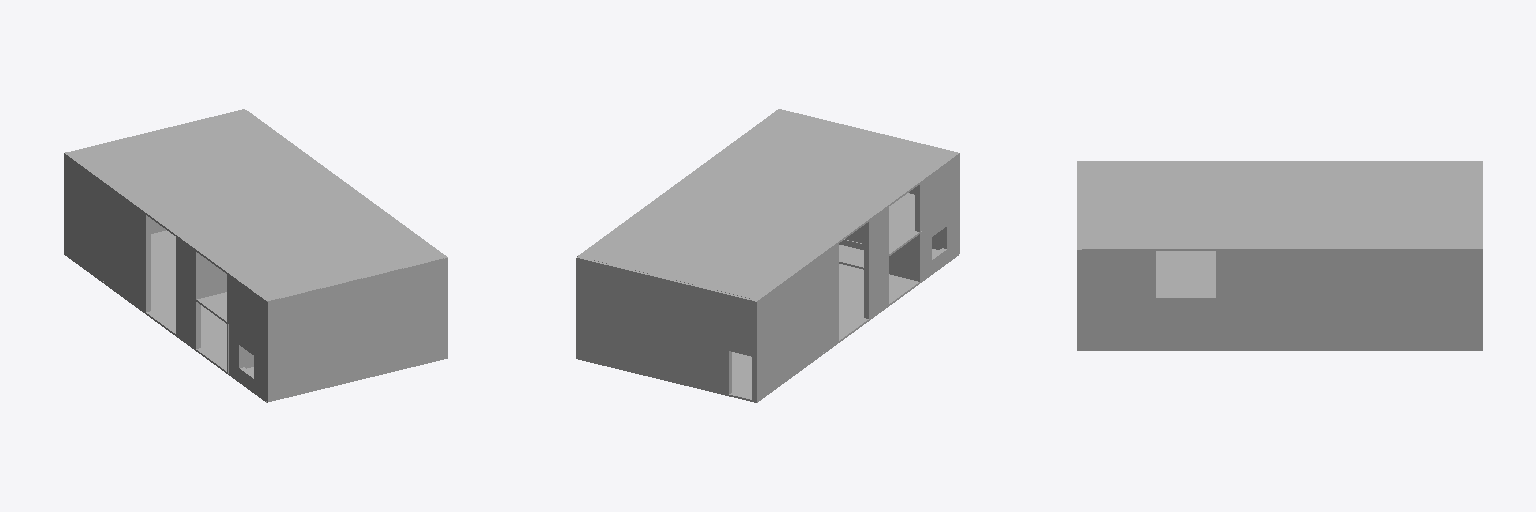
Rendered from aptofinal.obj.
3 renders of one model, left to right at view 1: azimuth 30°, elevation 25°; view 2: azimuth 150°, elevation 25°; view 3: azimuth 270°, elevation 25°, orthographic.
Parts seen in each view (by area): view 1: Apartamento TechoYsuelo pCube103, Apartamento LoftParedes pCube8, Apartamento LoftParedes pCube56, Apartamento LoftParedes pCube104, Apartamento LoftParedes pCube61, Apartamento pCube50 TechoYsuelo, Apartamento LoftParedes pCube57, Apartamento LoftParedes pCube6, Apartamento LoftParedes pCube95, Apartamento LoftParedes pCube58, Apartamento LoftParedes pCube7, Apartamento LoftParedes pCube97; view 2: Apartamento TechoYsuelo pCube103, Apartamento LoftParedes pCube60, Apartamento pCube2 LoftParedes, Apartamento LoftParedes pCube104, Apartamento LoftParedes pCube61, Apartamento pCube50 TechoYsuelo, Apartamento LoftParedes pCube57, Apartamento TechoYsuelo pCube55, Apartamento LoftParedes pCube105, Apartamento LoftParedes pCube6, Apartamento LoftParedes pCube58, Apartamento LoftParedes pCube51 (+1 smaller); view 3: Apartamento TechoYsuelo pCube103, Apartamento LoftParedes pCube30, Apartamento LoftParedes pCube59, Apartamento LoftParedes pCube96, Apartamento TechoYsuelo pCube55, Apartamento pCube50 TechoYsuelo.
Part boxes in pixels (x1,y1,x2,y2): Apartamento TechoYsuelo pCube103: (66, 110, 447, 301); Apartamento LoftParedes pCube8: (266, 309, 447, 402); Apartamento LoftParedes pCube56: (267, 258, 444, 351); Apartamento LoftParedes pCube104: (64, 204, 150, 311); Apartamento LoftParedes pCube61: (64, 152, 150, 263); Apartamento pCube50 TechoYsuelo: (64, 230, 266, 402); Apartamento LoftParedes pCube57: (227, 273, 266, 351); Apartamento LoftParedes pCube6: (176, 286, 200, 349); Apartamento LoftParedes pCube95: (196, 252, 226, 299); Apartamento LoftParedes pCube58: (176, 235, 195, 299); Apartamento LoftParedes pCube7: (229, 324, 243, 381); Apartamento LoftParedes pCube97: (254, 344, 265, 401); Apartamento TechoYsuelo pCube103: (577, 109, 958, 301); Apartamento LoftParedes pCube60: (576, 257, 729, 345); Apartamento pCube2 LoftParedes: (576, 308, 731, 395); Apartamento LoftParedes pCube104: (752, 293, 838, 401); Apartamento LoftParedes pCube61: (752, 244, 838, 352); Apartamento pCube50 TechoYsuelo: (578, 249, 958, 402); Apartamento LoftParedes pCube57: (915, 153, 959, 231); Apartamento TechoYsuelo pCube55: (839, 193, 919, 269); Apartamento LoftParedes pCube105: (729, 294, 752, 356); Apartamento LoftParedes pCube6: (864, 256, 888, 319); Apartamento LoftParedes pCube58: (864, 205, 888, 269); Apartamento LoftParedes pCube51: (889, 231, 921, 282); Apartamento TechoYsuelo pCube103: (1077, 161, 1479, 250); Apartamento LoftParedes pCube30: (1082, 299, 1476, 348); Apartamento LoftParedes pCube59: (1216, 251, 1476, 299); Apartamento LoftParedes pCube96: (1082, 251, 1155, 299); Apartamento TechoYsuelo pCube55: (1156, 251, 1215, 298); Apartamento pCube50 TechoYsuelo: (1082, 349, 1482, 350).
Size of the model in its own units: 11.34 by 6.06 by 21.99.